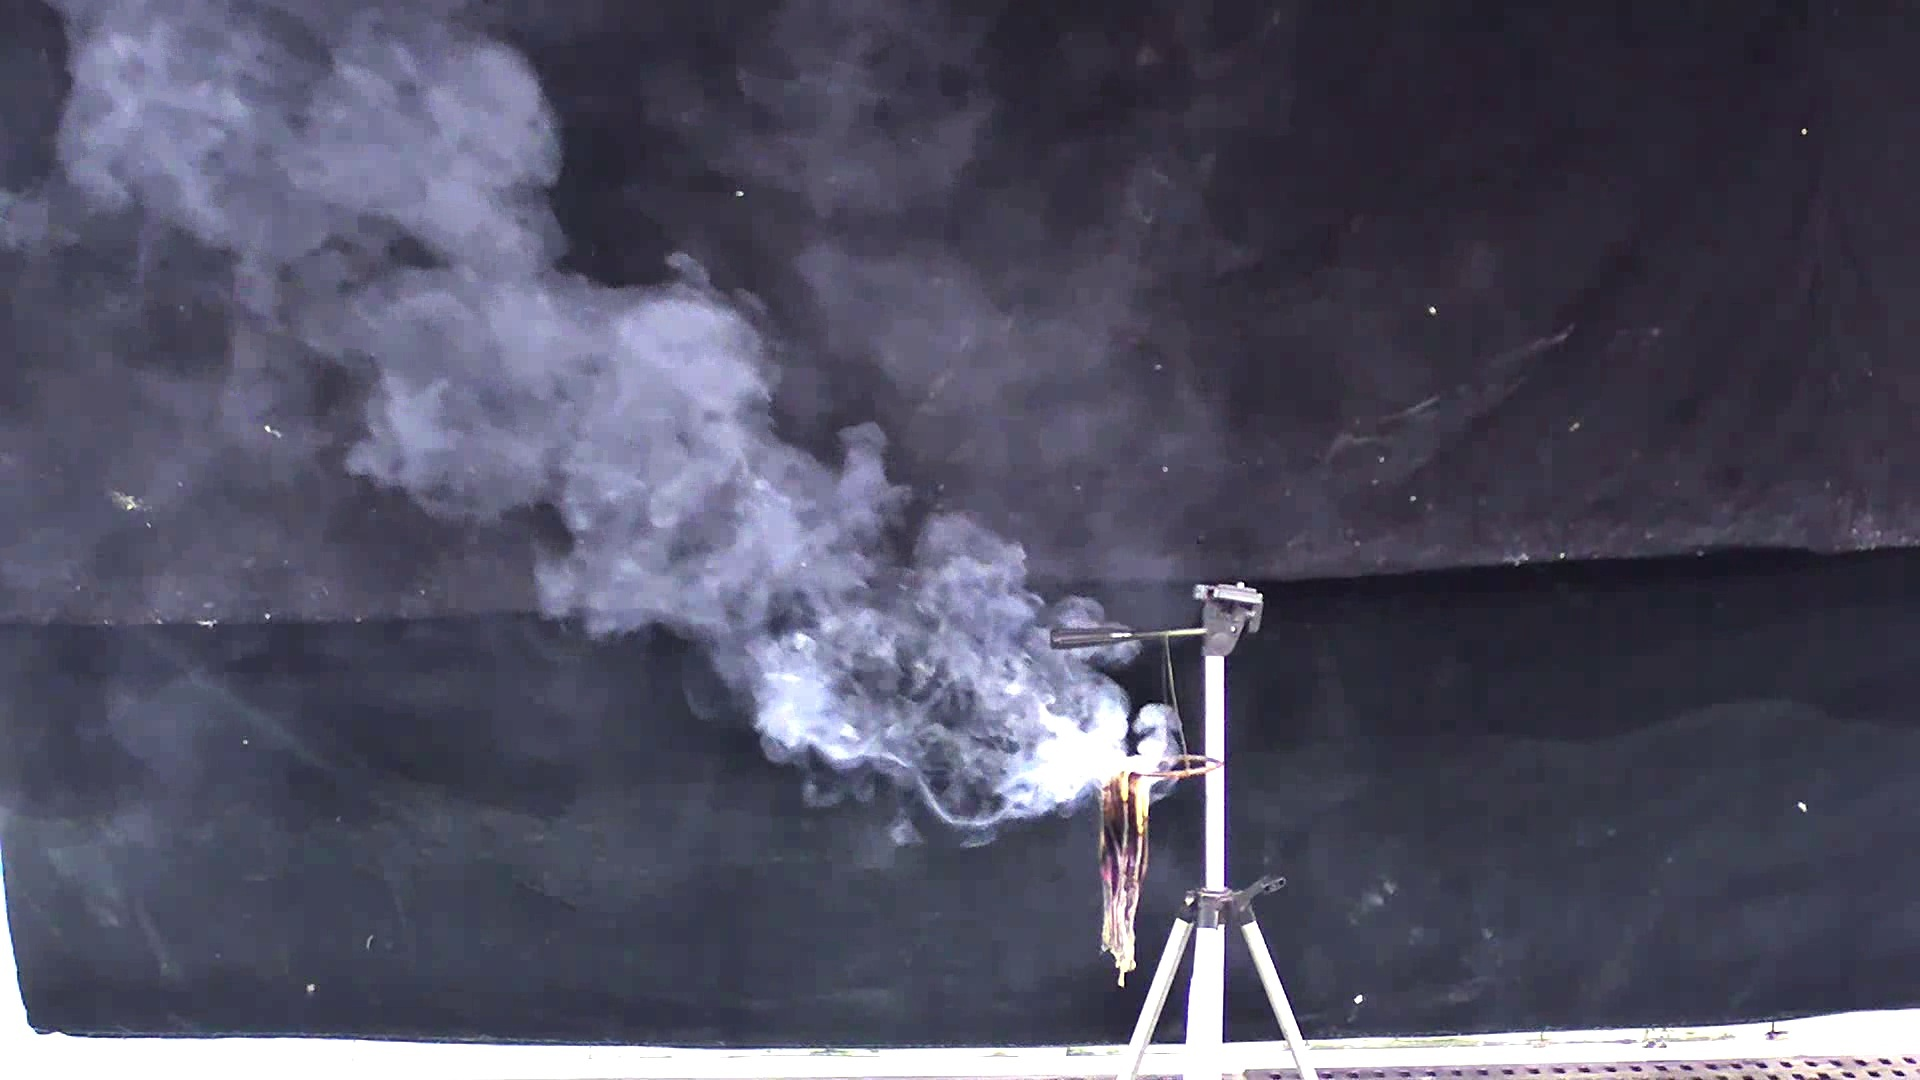smoke: (44, 16, 1117, 824)
